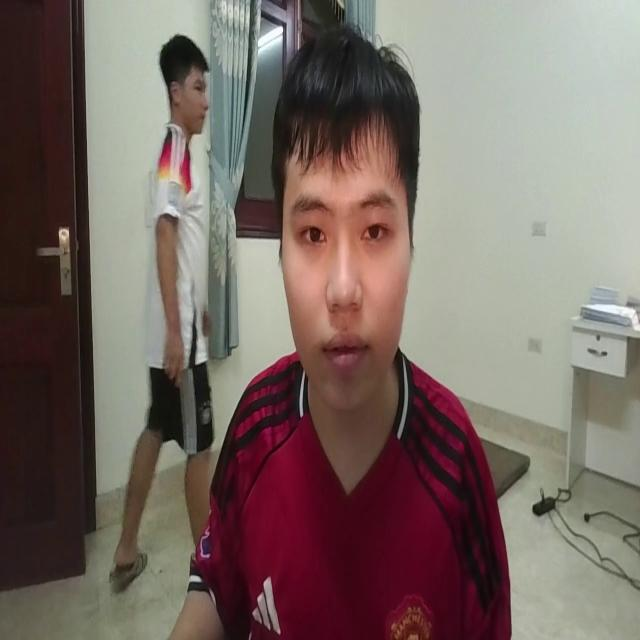extra_person: (106, 27, 217, 598)
student: (200, 19, 509, 640)
